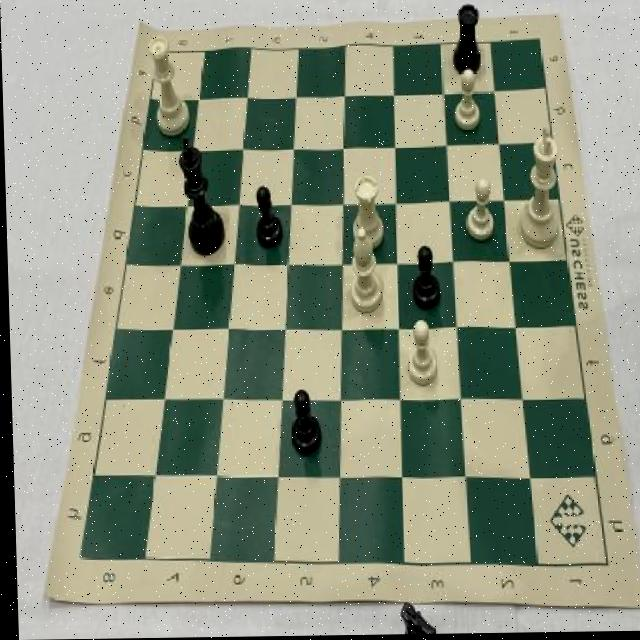black-bishop: (172, 131, 231, 264)
black-knight: (405, 241, 443, 314), (248, 180, 286, 253), (284, 386, 320, 462)
black-queen: (449, 0, 487, 81)
black-rook: (342, 227, 383, 323)
white-bishop: (509, 121, 566, 258)
white-knight: (400, 316, 441, 390), (445, 64, 485, 137), (461, 171, 498, 248)
white-pawn: (142, 31, 196, 143)
white-queen: (341, 169, 387, 257)
